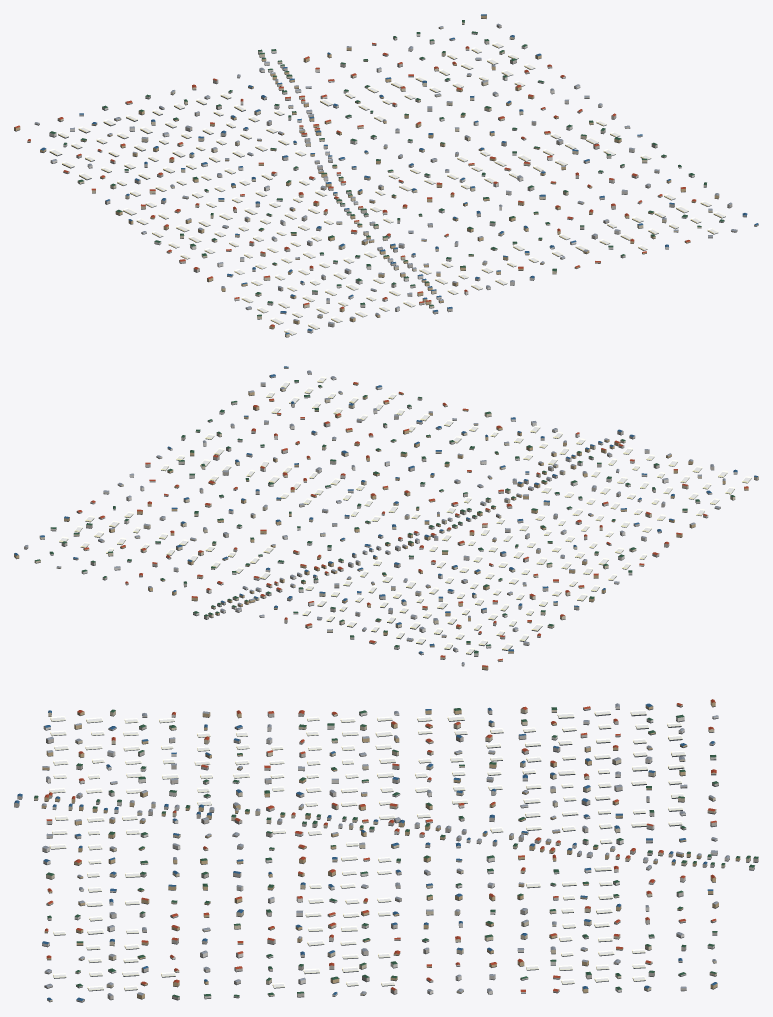
Rendered from buildings_T_E00_N03.glb.
The picture shows the model from 3 angles, top to bottom: view 1: azimuth 30°, elevation 25°; view 2: azimuth 150°, elevation 25°; view 3: azimuth 270°, elevation 25°; orthographic projection. The views are drawn at different scales.
Parts seen in each view (by area): view 1: T_E00_N03_slope_seating_foundations, T_E00_N03_roofs_agri_greenhouse_arch, T_E00_N03_walls_wall_french_ochre_villa, T_E00_N03_walls_wall_pastel_sand_gray, T_E00_N03_walls_wall_dalat_cream_stucco, T_E00_N03_walls_wall_modern_warm_white, T_E00_N03_roofs_roof_pine_green_hip, T_E00_N03_roofs_roof_zinc_silver_gable, T_E00_N03_roofs_roof_terracotta_gable, T_E00_N03_roofs_roof_highland_blue_gable; view 2: T_E00_N03_slope_seating_foundations, T_E00_N03_roofs_agri_greenhouse_arch, T_E00_N03_walls_wall_french_ochre_villa, T_E00_N03_walls_wall_pastel_sand_gray, T_E00_N03_walls_wall_dalat_cream_stucco, T_E00_N03_walls_wall_modern_warm_white, T_E00_N03_roofs_roof_pine_green_hip, T_E00_N03_roofs_roof_zinc_silver_gable, T_E00_N03_roofs_roof_terracotta_gable, T_E00_N03_roofs_roof_highland_blue_gable; view 3: T_E00_N03_slope_seating_foundations, T_E00_N03_roofs_agri_greenhouse_arch, T_E00_N03_walls_wall_french_ochre_villa, T_E00_N03_walls_wall_pastel_sand_gray, T_E00_N03_walls_wall_dalat_cream_stucco, T_E00_N03_walls_wall_modern_warm_white, T_E00_N03_roofs_roof_pine_green_hip, T_E00_N03_roofs_roof_zinc_silver_gable, T_E00_N03_roofs_roof_terracotta_gable, T_E00_N03_roofs_roof_highland_blue_gable.
Part boxes in pixels (x1=…): T_E00_N03_slope_seating_foundations: x1=14, y1=18, x2=758, y2=337; T_E00_N03_roofs_agri_greenhouse_arch: x1=49, y1=42, x2=725, y2=334; T_E00_N03_walls_wall_french_ochre_villa: x1=14, y1=15, x2=719, y2=328; T_E00_N03_walls_wall_pastel_sand_gray: x1=63, y1=25, x2=746, y2=326; T_E00_N03_walls_wall_dalat_cream_stucco: x1=27, y1=21, x2=758, y2=337; T_E00_N03_walls_wall_modern_warm_white: x1=34, y1=34, x2=712, y2=332; T_E00_N03_roofs_roof_pine_green_hip: x1=50, y1=20, x2=724, y2=316; T_E00_N03_roofs_roof_zinc_silver_gable: x1=35, y1=23, x2=737, y2=323; T_E00_N03_roofs_roof_terracotta_gable: x1=15, y1=42, x2=695, y2=326; T_E00_N03_roofs_roof_highland_blue_gable: x1=40, y1=14, x2=758, y2=334; T_E00_N03_slope_seating_foundations: x1=14, y1=368, x2=758, y2=670; T_E00_N03_roofs_agri_greenhouse_arch: x1=59, y1=376, x2=751, y2=653; T_E00_N03_walls_wall_french_ochre_villa: x1=14, y1=383, x2=748, y2=669; T_E00_N03_walls_wall_pastel_sand_gray: x1=24, y1=371, x2=720, y2=639; T_E00_N03_walls_wall_dalat_cream_stucco: x1=34, y1=367, x2=758, y2=661; T_E00_N03_walls_wall_modern_warm_white: x1=50, y1=377, x2=737, y2=665; T_E00_N03_roofs_roof_pine_green_hip: x1=35, y1=380, x2=734, y2=653; T_E00_N03_roofs_roof_zinc_silver_gable: x1=24, y1=370, x2=725, y2=664; T_E00_N03_roofs_roof_terracotta_gable: x1=77, y1=382, x2=748, y2=667; T_E00_N03_roofs_roof_highland_blue_gable: x1=14, y1=366, x2=757, y2=653; T_E00_N03_slope_seating_foundations: x1=14, y1=704, x2=758, y2=1002; T_E00_N03_roofs_agri_greenhouse_arch: x1=49, y1=710, x2=685, y2=990; T_E00_N03_walls_wall_french_ochre_villa: x1=41, y1=701, x2=740, y2=998; T_E00_N03_walls_wall_pastel_sand_gray: x1=14, y1=707, x2=758, y2=1001; T_E00_N03_walls_wall_dalat_cream_stucco: x1=34, y1=704, x2=750, y2=1001; T_E00_N03_walls_wall_modern_warm_white: x1=42, y1=706, x2=754, y2=998; T_E00_N03_roofs_roof_pine_green_hip: x1=34, y1=707, x2=758, y2=997; T_E00_N03_roofs_roof_zinc_silver_gable: x1=41, y1=703, x2=729, y2=996; T_E00_N03_roofs_roof_terracotta_gable: x1=44, y1=699, x2=716, y2=991; T_E00_N03_roofs_roof_highland_blue_gable: x1=14, y1=703, x2=717, y2=1000.
Size of the model in its own units: 1754 by 56.44 by 1929.
